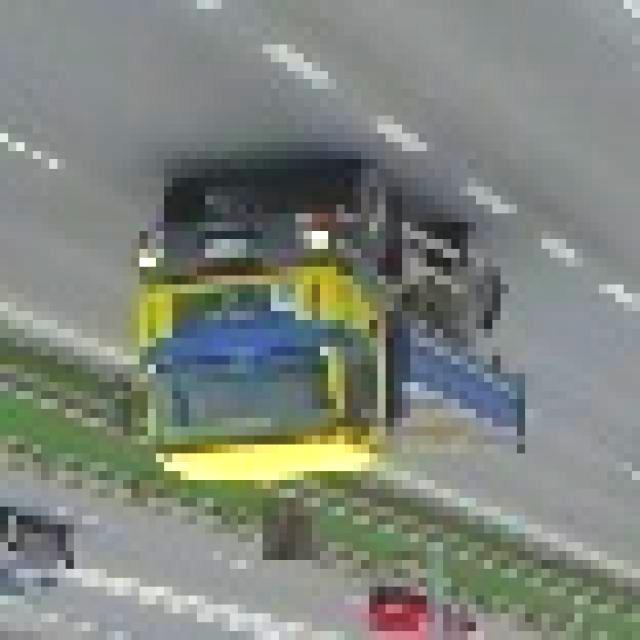truck: (106, 169, 518, 507)
